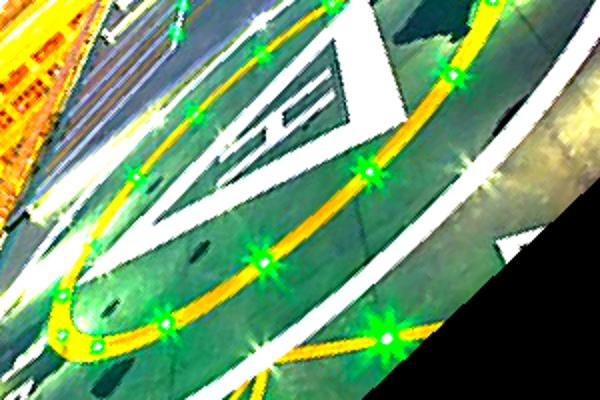Apron: (35, 2, 508, 361)
